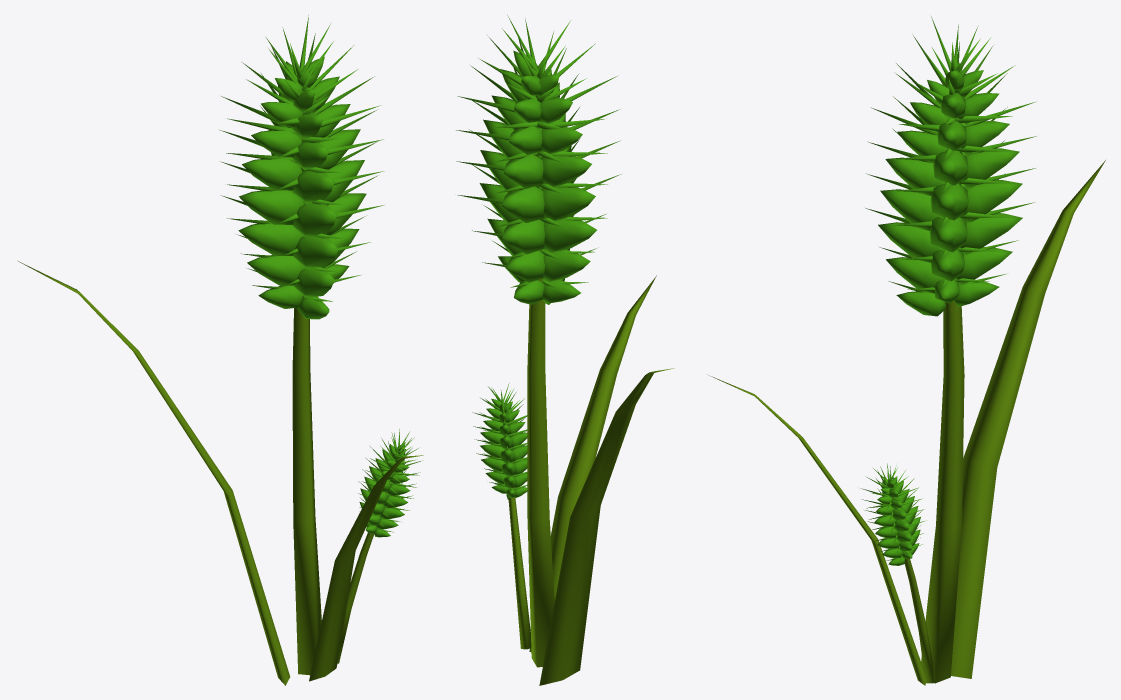
Rendered from NotRipe.fbx.
The picture shows the model from 3 angles, left to right: view 1: azimuth 30°, elevation 25°; view 2: azimuth 150°, elevation 25°; view 3: azimuth 270°, elevation 25°; orthographic projection. The views are drawn at different scales.
Visible parts, largest first — view 1: Cube; view 2: Cube; view 3: Cube.
Part boxes in pixels (x1,y1,x2,y2): Cube: (18, 15, 423, 685); Cube: (456, 15, 673, 685); Cube: (709, 16, 1105, 685).
Size of the model in its own units: 0.221 by 0.4495 by 0.248.
